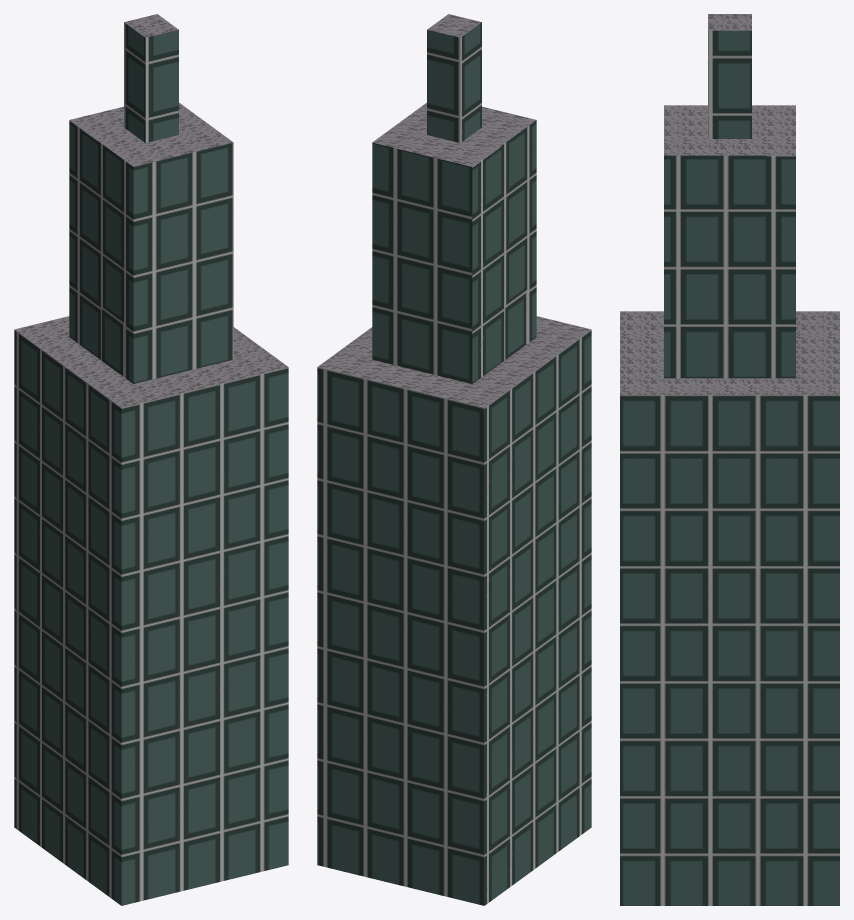
File: glass buidling.fbx
The picture shows the model from 3 angles, left to right: view 1: azimuth 30°, elevation 25°; view 2: azimuth 150°, elevation 25°; view 3: azimuth 270°, elevation 25°; orthographic projection. The views are drawn at different scales.
Visible parts, largest first — view 1: pCube1; view 2: pCube1; view 3: pCube1.
Boxes of the visible parts, x1,y1,x2,y2 form: pCube1: [14, 14, 288, 905]; pCube1: [317, 14, 591, 905]; pCube1: [620, 14, 839, 905].
Size of the model in its own units: 10.05 by 47.14 by 11.16.
1 material, 1 textured.
